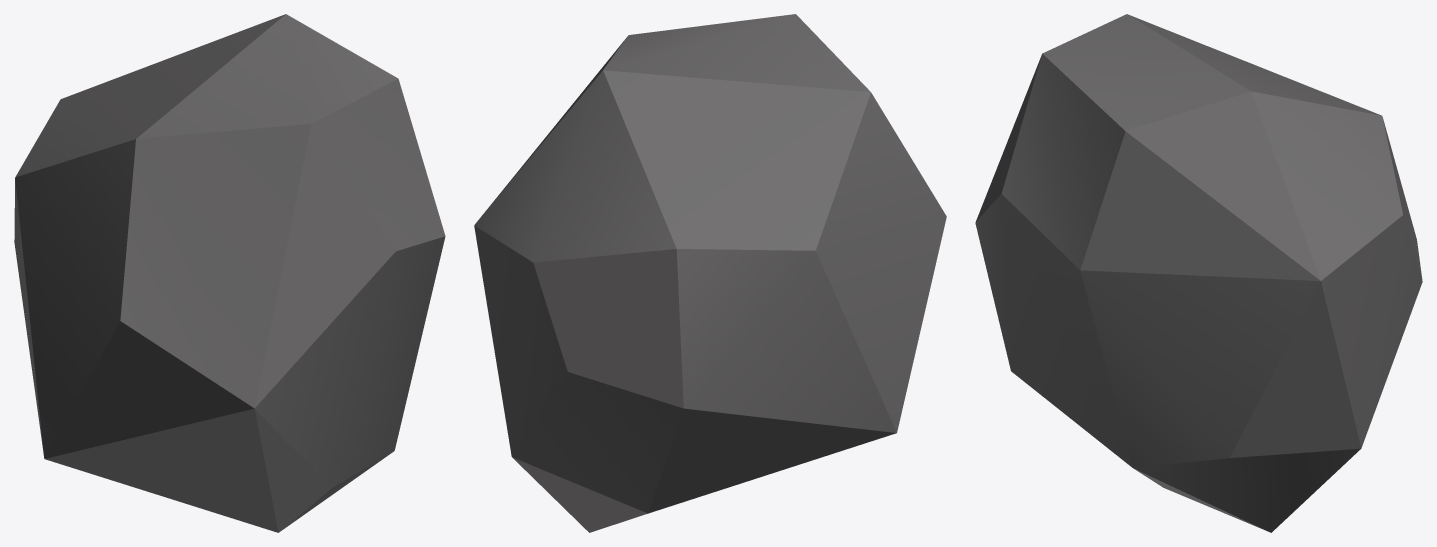
Rendered from RockK.fbx.
The picture shows the model from 3 angles, left to right: view 1: azimuth 30°, elevation 25°; view 2: azimuth 150°, elevation 25°; view 3: azimuth 270°, elevation 25°; orthographic projection. The views are drawn at different scales.
Parts seen in each view (by area): view 1: RockK; view 2: RockK; view 3: RockK.
Part boxes in pixels (box(x1,y1,x2,y2)): RockK: box(14, 14, 445, 532); RockK: box(474, 14, 946, 532); RockK: box(975, 14, 1422, 532).
Size of the model in its own units: 27.48 by 33.99 by 31.3.
